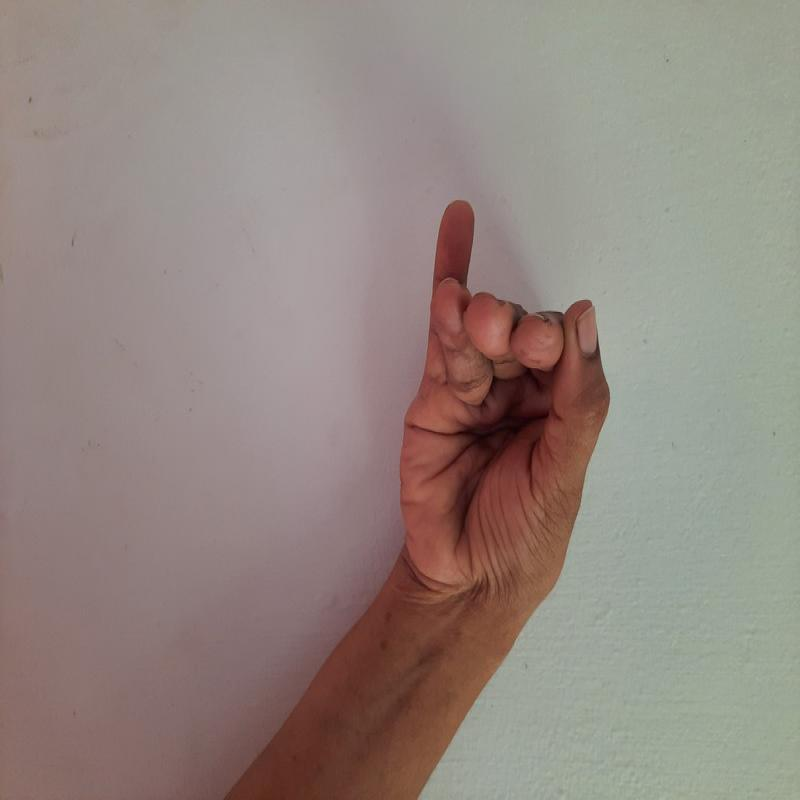Kartharee Mukham: (381, 190, 623, 609)
